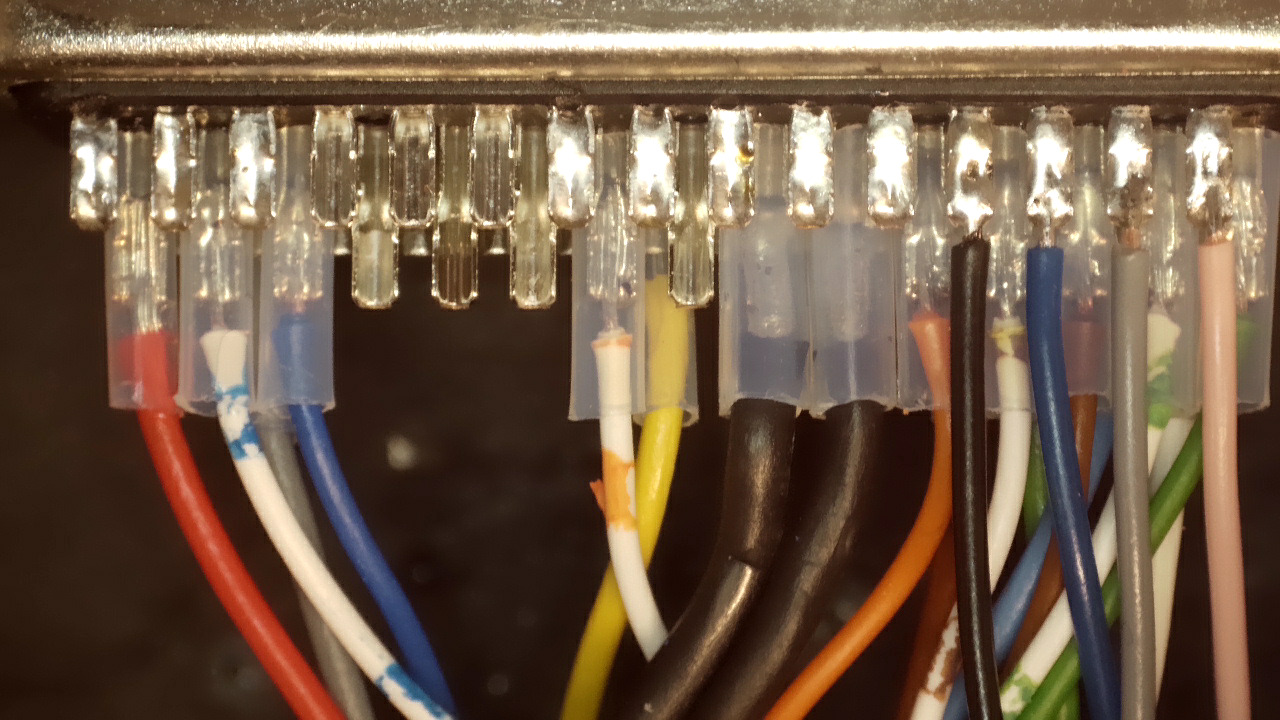bad_weld: (1185, 85, 1259, 268), (1023, 95, 1091, 284), (942, 91, 1013, 269), (1107, 92, 1170, 278)
